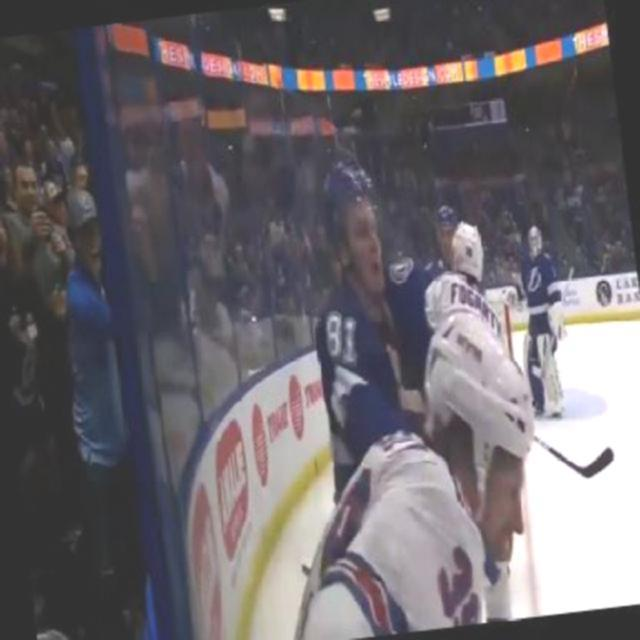fight: (290, 128, 556, 638)
